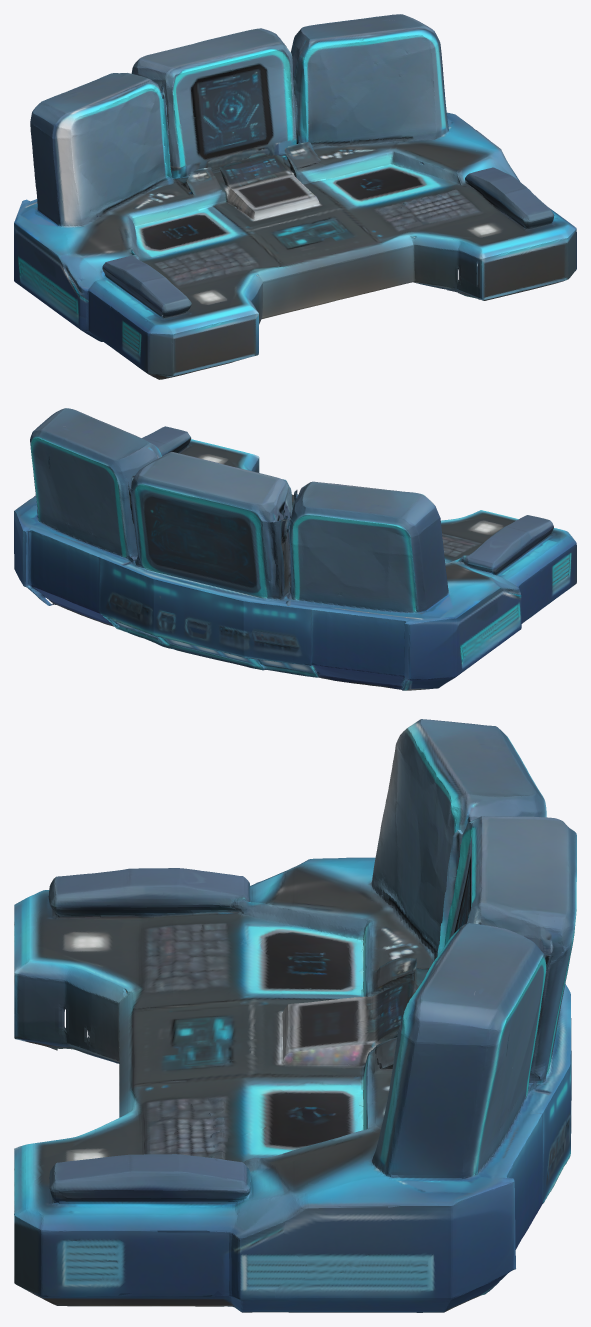
The model's file is newsofa.fbx.
3 views of the same model, one above another, from view 1: azimuth 30°, elevation 25°; view 2: azimuth 150°, elevation 25°; view 3: azimuth 270°, elevation 25° (orthographic). The views are drawn at different scales.
Parts seen in each view (by area): view 1: temp; view 2: temp; view 3: temp.
Boxes of the visible parts, bbox=[...] form: temp: bbox=[14, 14, 576, 379]; temp: bbox=[14, 408, 576, 690]; temp: bbox=[14, 719, 576, 1312].
Bounding box in the file's own units: 9.88 × 3.93 × 6.74.
1 material, 1 textured.
